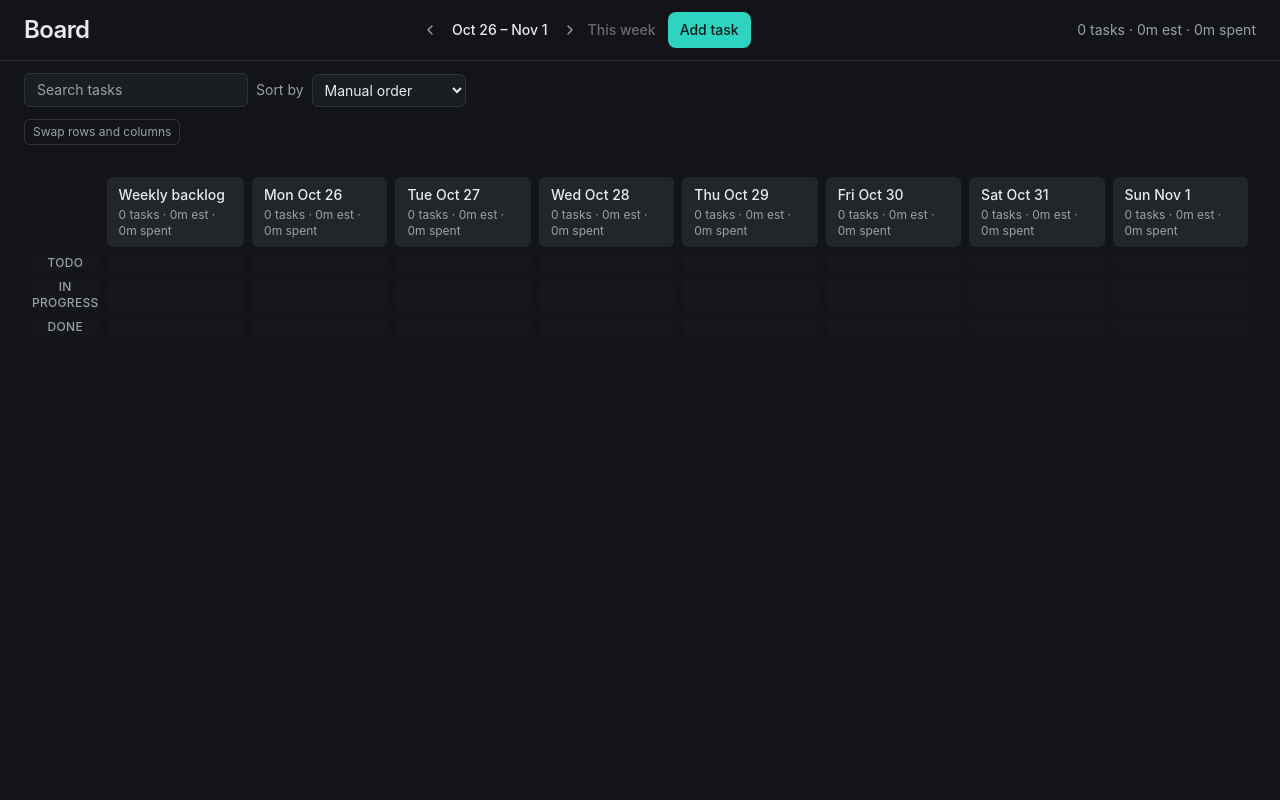
Test: BoardPage › disables days in future weeks inside the calendar popover
Click the button "Oct 26 – Nov 1".
click(500, 30)  # box [448,20,552,40]
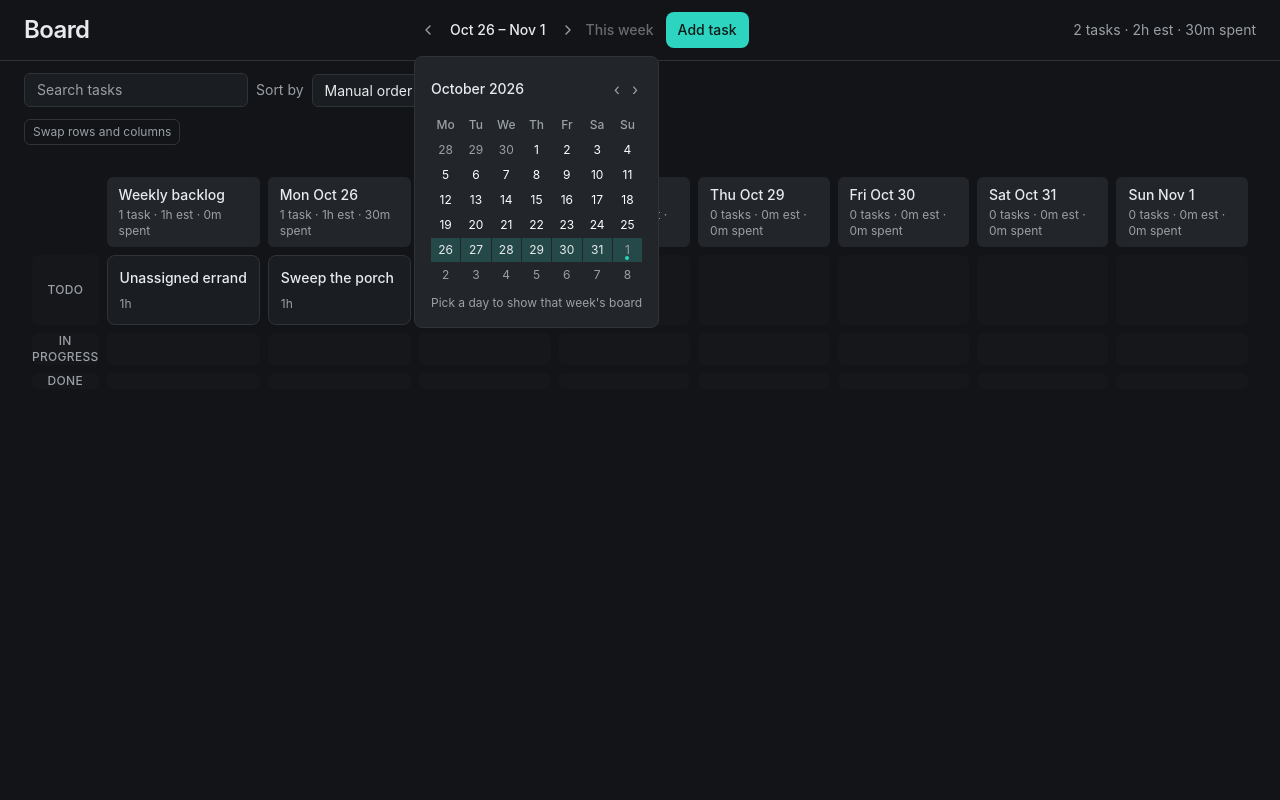
Click the 2nd button "2".
click(446, 275)  # box [431,263,460,287]
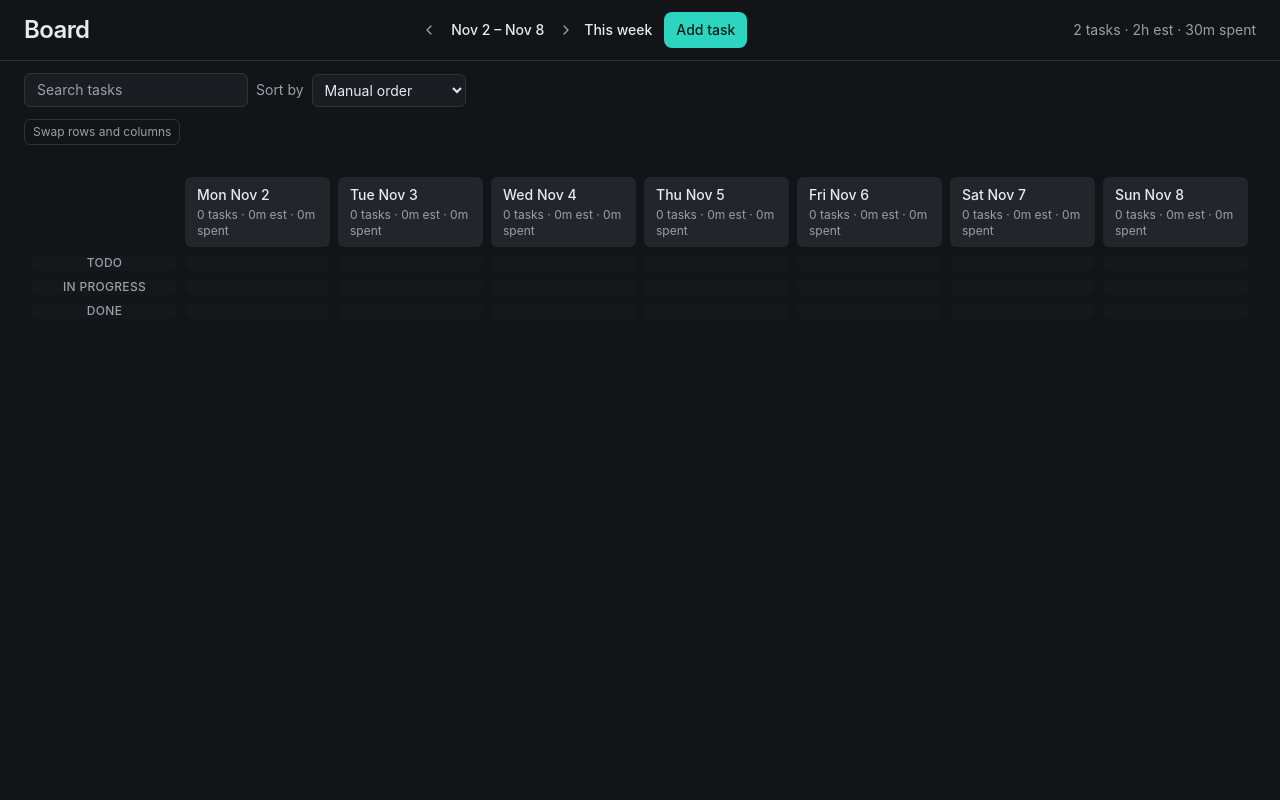
Expected: the text "Weekly backlog" is gone
